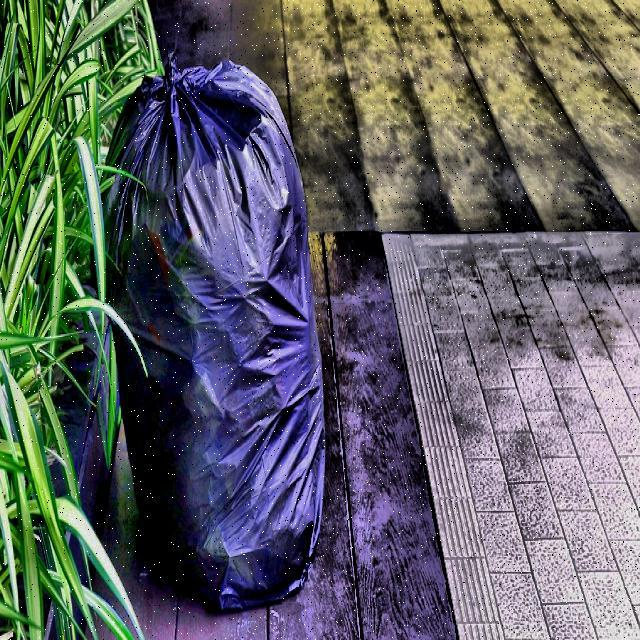Trashbag: (98, 50, 355, 640)
